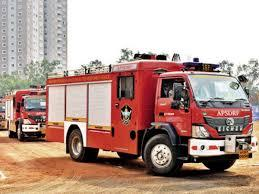Emergency-Vehicles: (19, 54, 259, 167)
